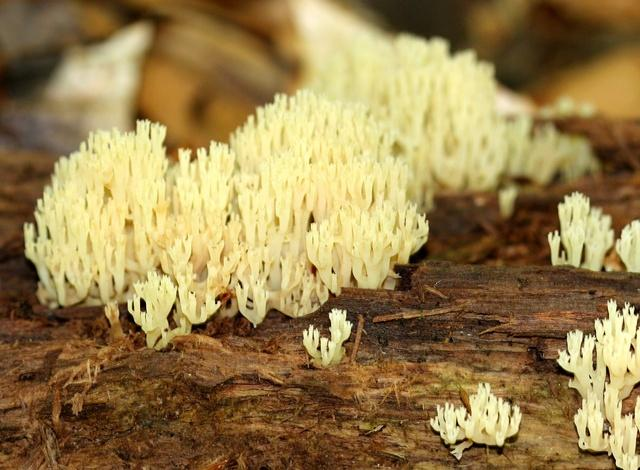edible_mushroom: (22, 25, 599, 349), (300, 27, 599, 218), (555, 297, 639, 468), (428, 381, 522, 460), (301, 307, 353, 368)
